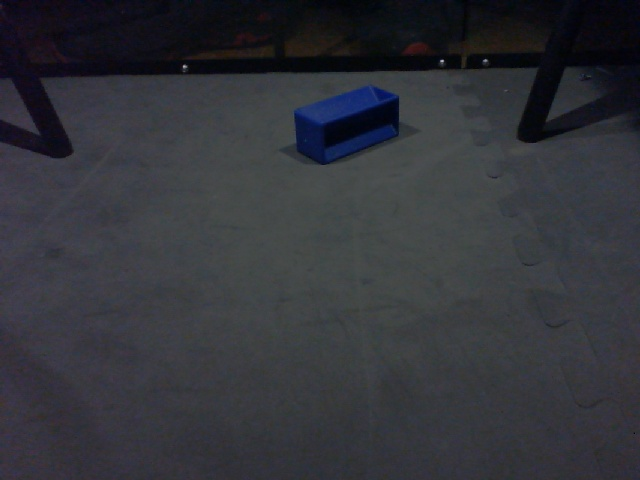BlueSample: (288, 82, 404, 167)
